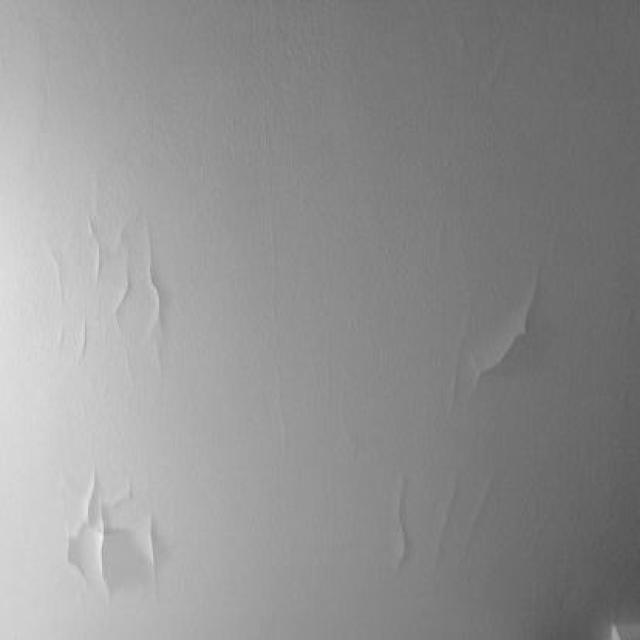peeling paint: (376, 195, 594, 591), (35, 188, 198, 604)
